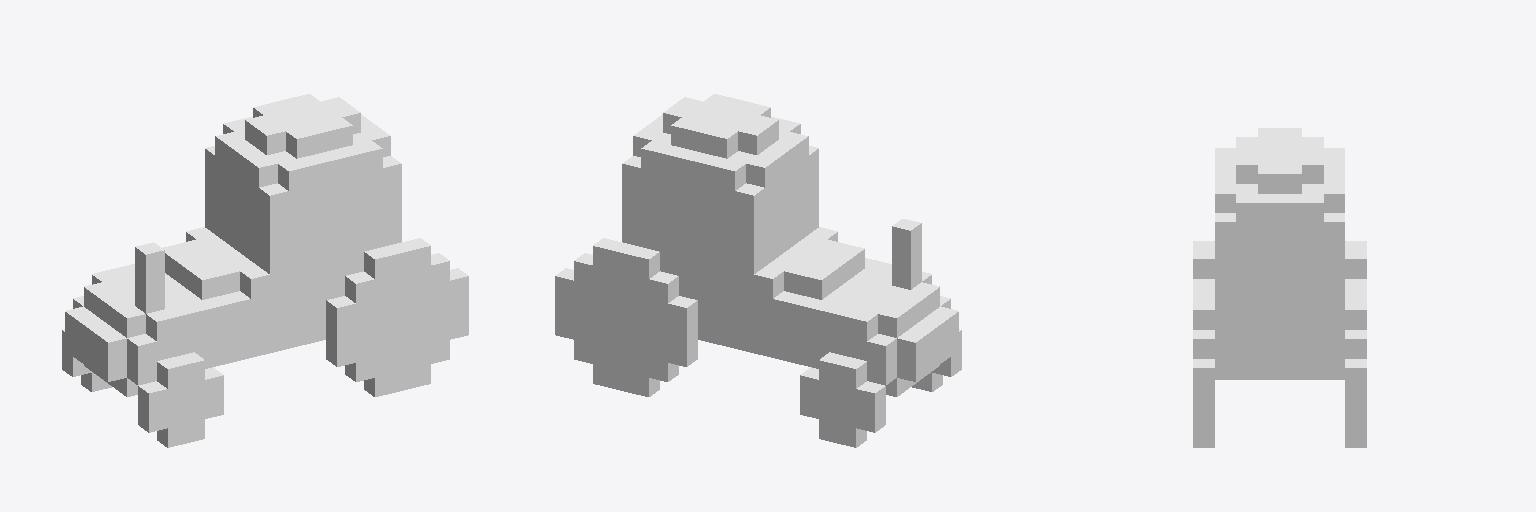
Rendered from Tractor.obj.
3 views of the same model, side by side, from view 1: azimuth 30°, elevation 25°; view 2: azimuth 150°, elevation 25°; view 3: azimuth 270°, elevation 25° (orthographic).
Visible parts, largest first — view 1: object 1; view 2: object 1; view 3: object 1.
Part boxes in pixels (x1,y1,x2,y2): object 1: (62,94,468,447); object 1: (555,94,961,447); object 1: (1193,128,1366,447).
Bounding box in the file's own units: 1.8 × 1.3 × 0.8.